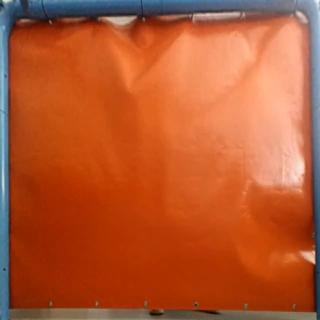Hit-hRxx: (123, 86, 137, 98)
